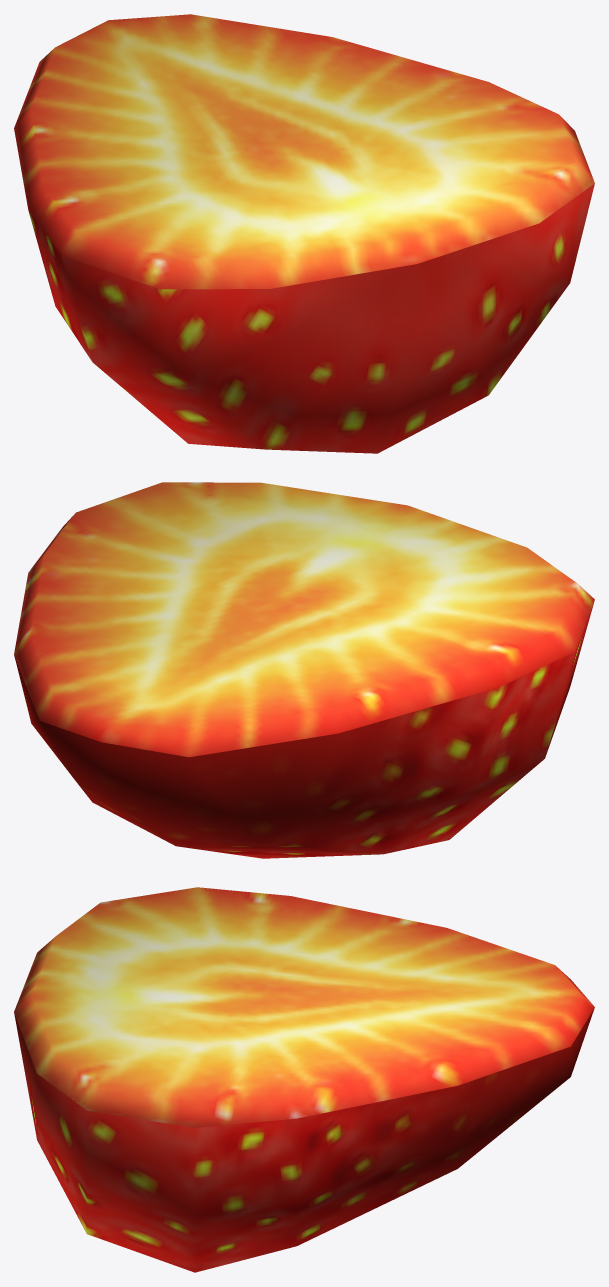
File: strawberry_half.fbx
The picture shows the model from 3 angles, top to bottom: view 1: azimuth 30°, elevation 25°; view 2: azimuth 150°, elevation 25°; view 3: azimuth 270°, elevation 25°; orthographic projection. The views are drawn at different scales.
Parts seen in each view (by area): view 1: strawberry_half; view 2: strawberry_half; view 3: strawberry_half.
Boxes of the visible parts, x1,y1,x2,y2 form: strawberry_half: [14, 14, 594, 453]; strawberry_half: [14, 482, 594, 858]; strawberry_half: [14, 887, 594, 1272].
Bounding box in the file's own units: 26.14 × 13.15 × 27.92.
